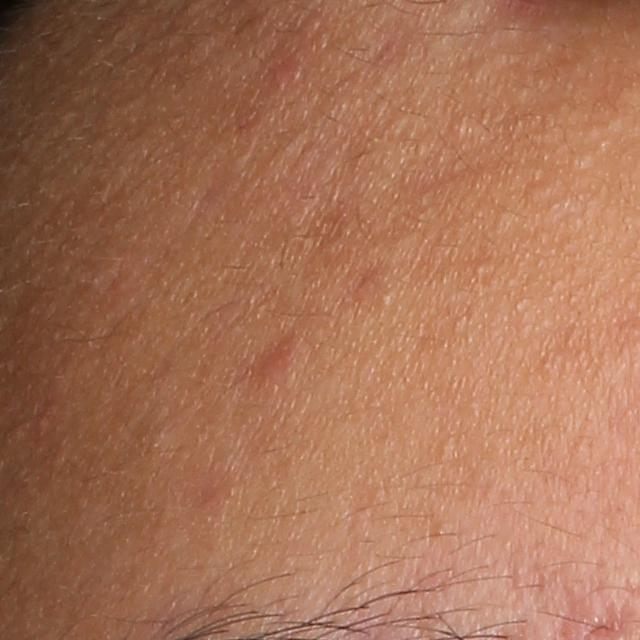comedo: (374, 290, 394, 310)
papule: (255, 331, 305, 385)
